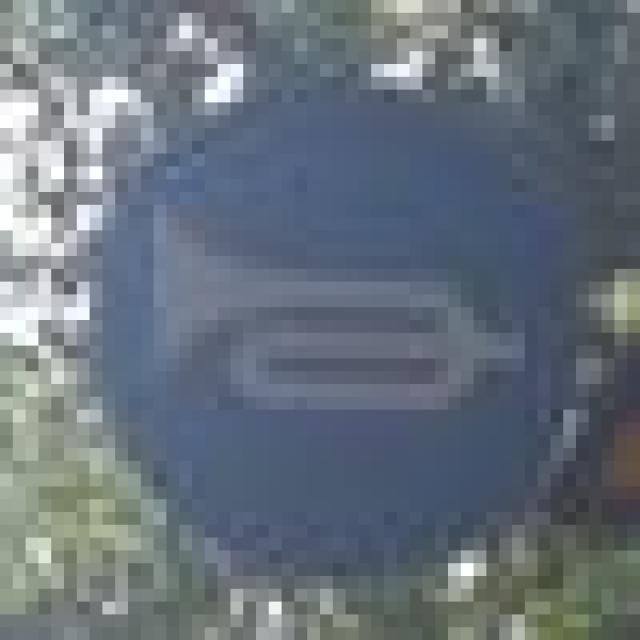compulsory_min_speed: (77, 77, 550, 563)
